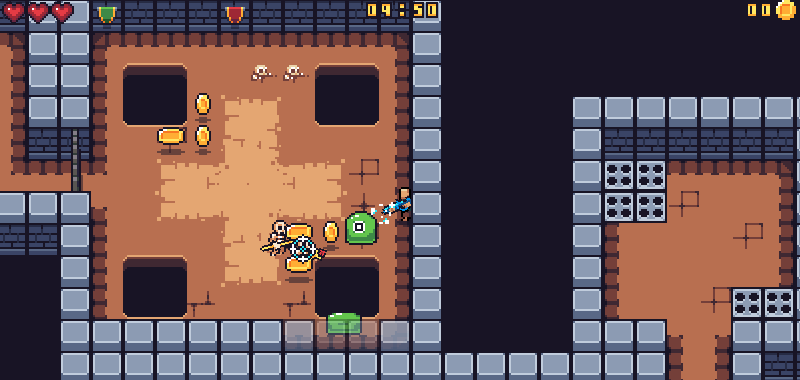enemy_skeleton: (258, 216, 286, 253)
enemy_slug_big: (346, 211, 378, 244), (324, 311, 365, 334)
gold: (155, 124, 185, 148), (287, 221, 313, 244), (284, 254, 310, 272), (193, 91, 211, 115), (193, 125, 210, 147), (322, 220, 339, 242)
trap_door: (63, 120, 86, 204)
trap_off: (604, 160, 667, 222), (730, 286, 793, 319)
